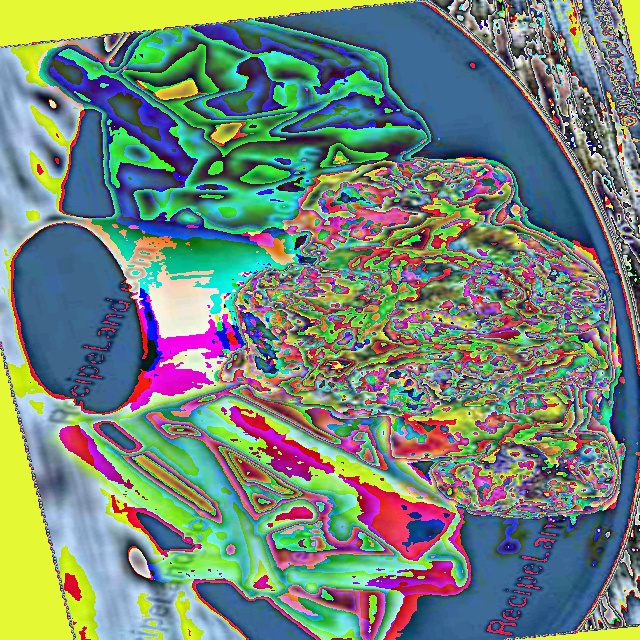background: (6, 20, 617, 639)
